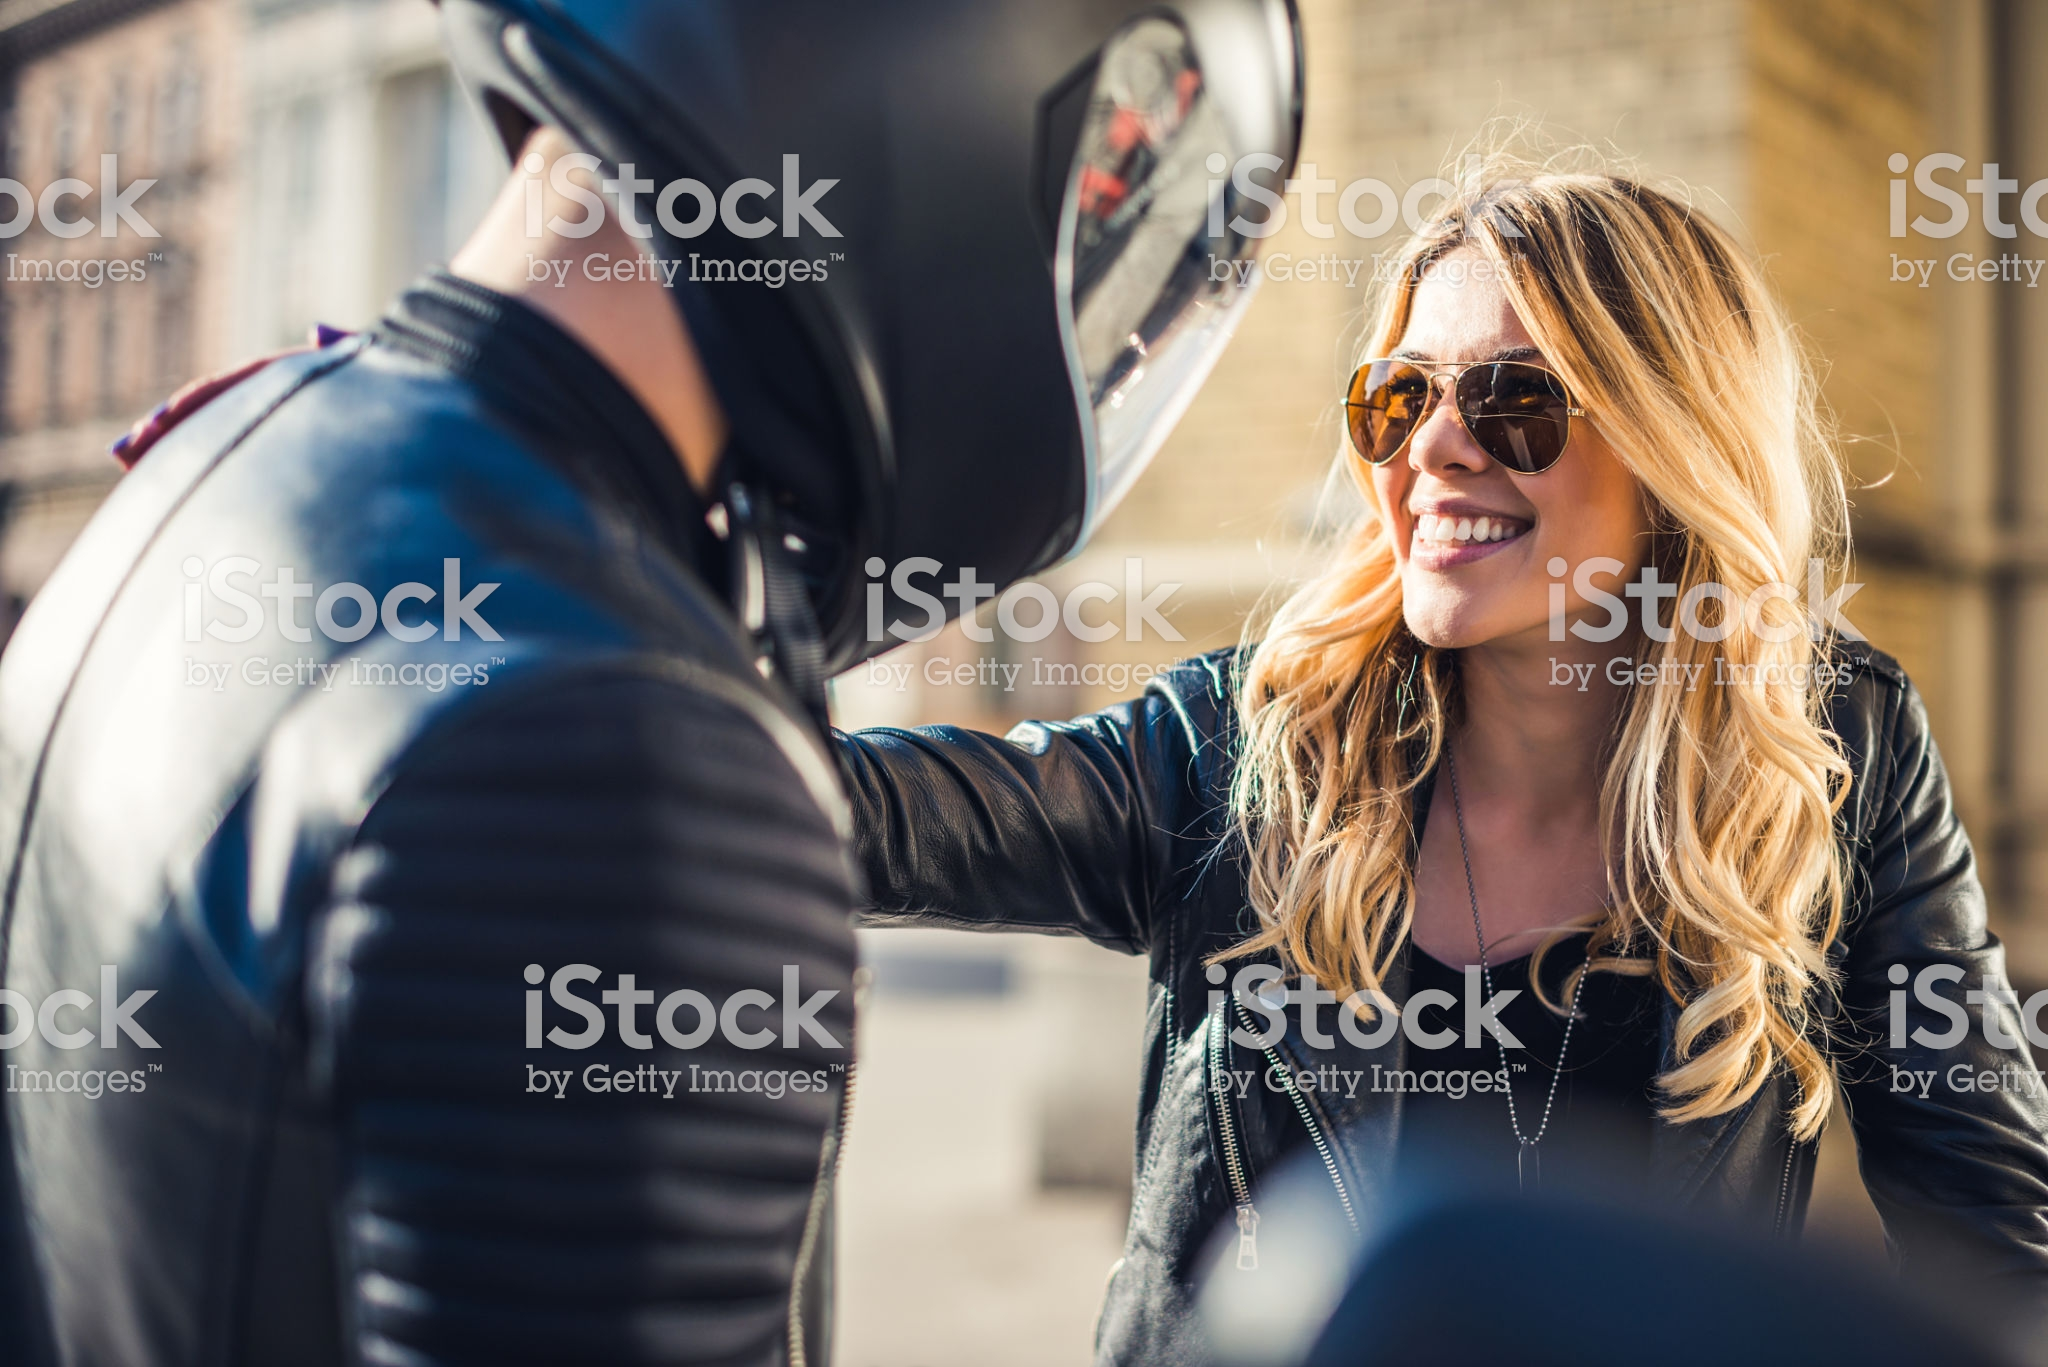helmet: (435, 2, 1348, 674)
